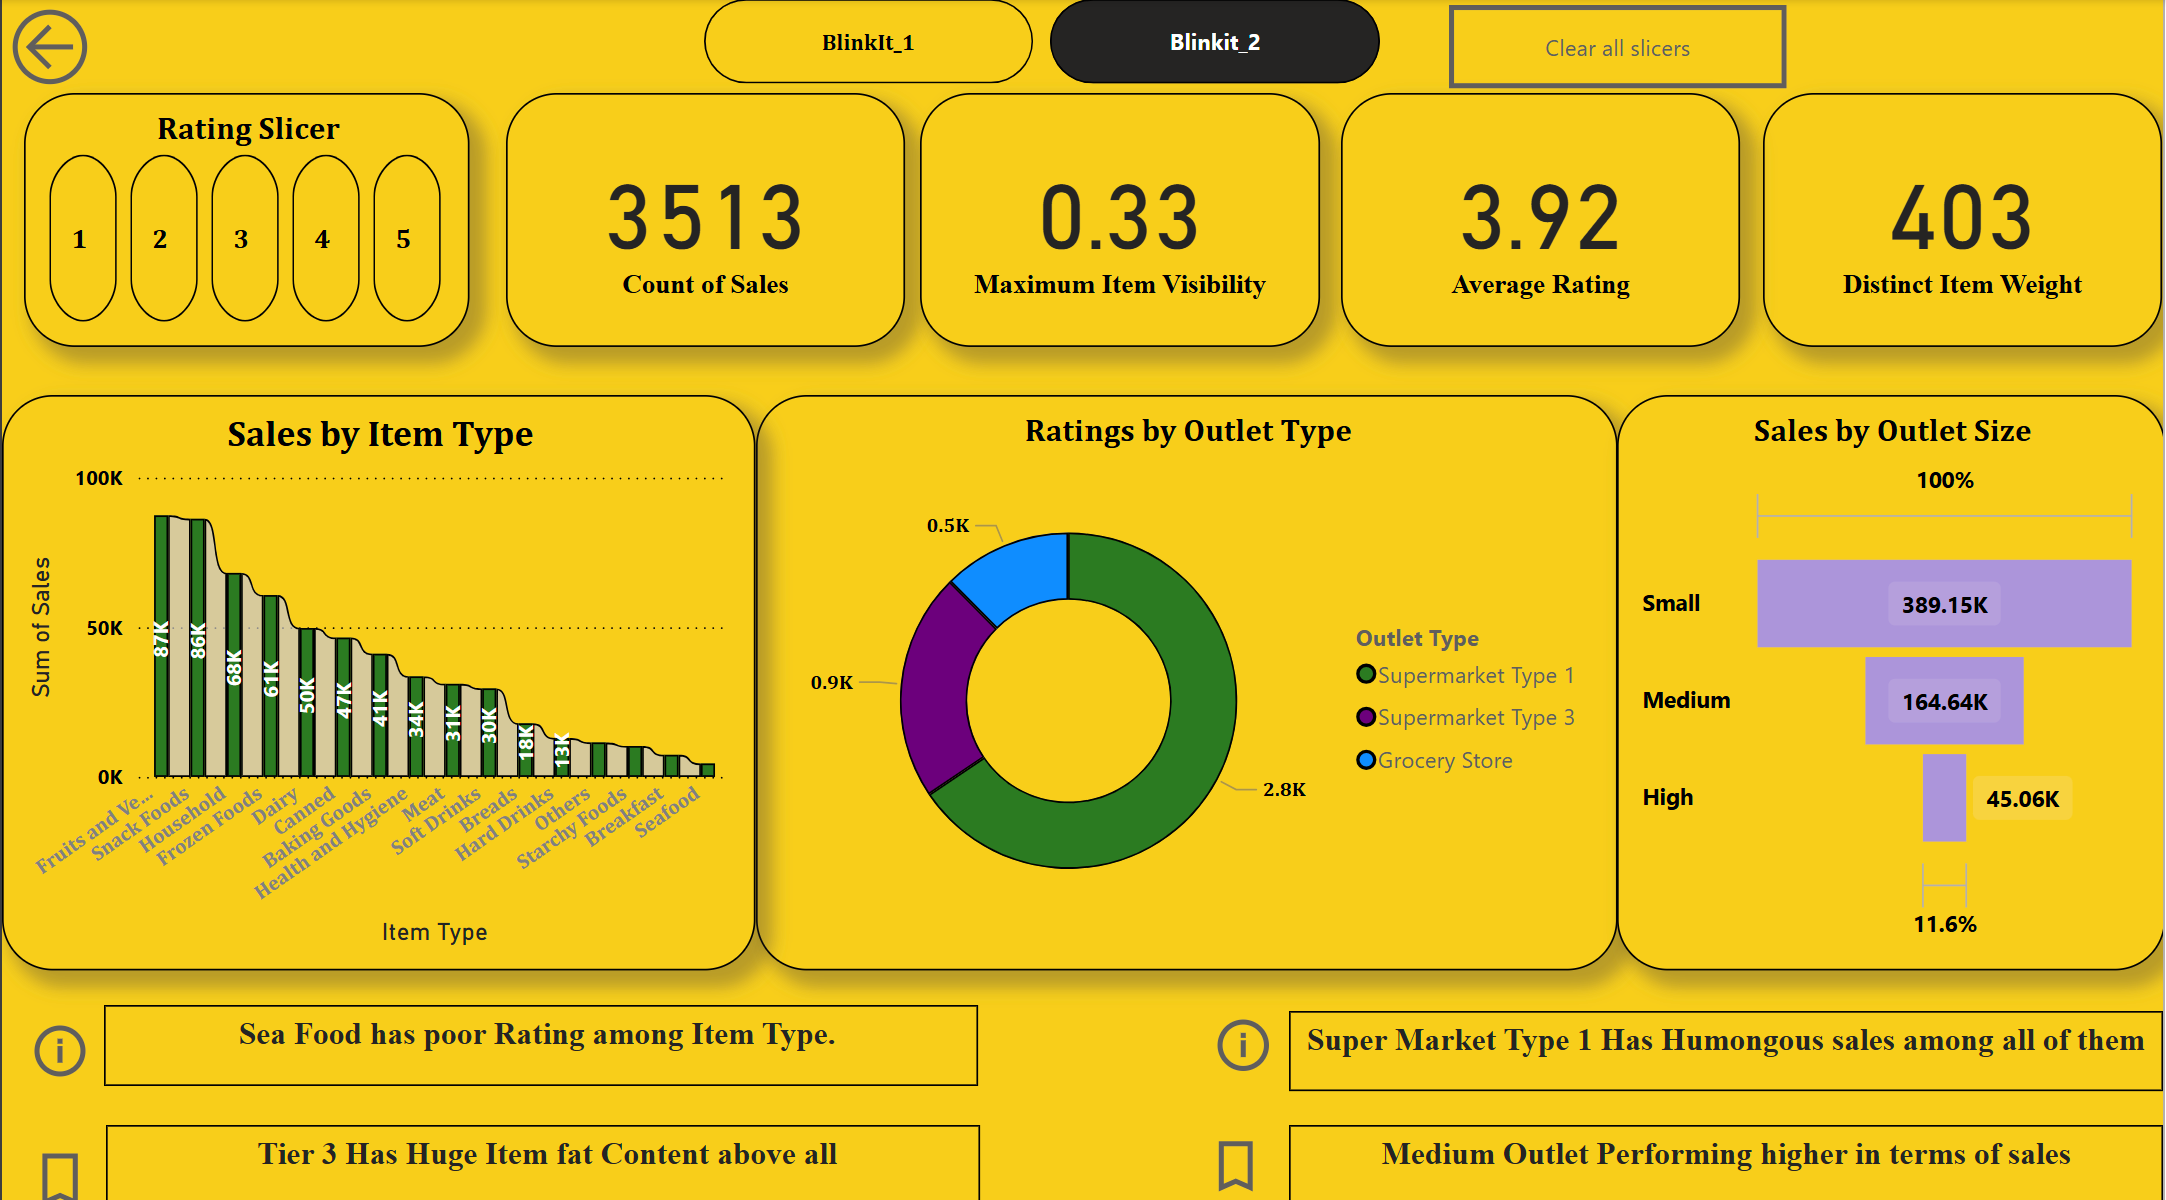

This screenshot's page, from the dashboard's own definition file:
{"tool":"powerbi","page":{"name":"Blinkit_2","canvas":[1280,720],"ordinal":1},"visuals":[{"type":"advancedSlicerVisual","fields":{"Values":["BlinkIT Grocery Data.Rating"]},"box":[13.2,56.1,264.2,150.6],"z":0},{"type":"card","fields":{"Values":["Count(BlinkIT Grocery Data.Sales)"]},"box":[298.5,56.1,236.4,150.6],"z":4000},{"type":"card","fields":{"Values":["BlinkIT Grocery Data.Max Visibility"]},"box":[544.2,56.1,236.4,150.6],"z":5000},{"type":"card","fields":{"Values":["Count(BlinkIT Grocery Data.Item Weight)"]},"box":[1043.6,56.1,236.4,150.6],"z":6000},{"type":"card","fields":{"Values":["Avg(BlinkIT Grocery Data.Rating)"]},"box":[792.6,56.1,236.4,150.6],"z":7000},{"type":"donutChart","title":" Ratings by Outlet Type","fields":{"Y":["CountNonNull(BlinkIT Grocery Data.Rating)"],"Category":["BlinkIT Grocery Data.Outlet Type"]},"box":[446.5,235.1,509.9,340.8],"z":8000},{"type":"actionButton","box":[0,0,60.8,56.8],"z":9000},{"type":"ribbonChart","title":"Sales by Item Type","fields":{"Category":["BlinkIT Grocery Data.Item Type"],"Y":["Sum(BlinkIT Grocery Data.Sales)"]},"box":[0,235.1,446.5,340.8],"z":10000},{"type":"funnel","title":"Sales by Outlet Size","fields":{"Y":["Sum(BlinkIT Grocery Data.Sales)"],"Category":["BlinkIT Grocery Data.Outlet Size"]},"box":[956.4,235.1,325,340.8],"z":11000},{"type":"pageNavigator","box":[416.1,0,400.2,50.2],"z":12000},{"type":"actionButton","box":[714.7,599.4,47.1,40.6],"z":13000},{"type":"textbox","box":[762.1,599.7,517.9,47.4],"z":14000},{"type":"actionButton","box":[14.6,679,40.6,40.6],"z":15000},{"type":"textbox","box":[61.7,667.6,518.2,48.7],"z":16000},{"type":"actionButton","box":[14.2,603.3,40.3,40.3],"z":17000},{"type":"textbox","box":[60.3,596.1,518,48],"z":18000},{"type":"actionButton","box":[711.5,672.5,50.4,39],"z":19000},{"type":"textbox","box":[761.8,667.6,518.2,48.7],"z":20000},{"type":"actionButton","box":[856.5,4.1,200.1,49.3],"z":21000}]}

Visuals, with their boxes in screenshot pixels (x1, y1, x2, y2), scaled from the page's 1280x720 canvas onto the 2166x1200 screenshot:
advancedSlicerVisual - BlinkIT Grocery Data.Rating: rect(22, 94, 469, 344)
card - Count(BlinkIT Grocery Data.Sales): rect(505, 94, 905, 344)
card - BlinkIT Grocery Data.Max Visibility: rect(921, 94, 1321, 344)
card - Count(BlinkIT Grocery Data.Item Weight): rect(1766, 94, 2165, 344)
card - Avg(BlinkIT Grocery Data.Rating): rect(1341, 94, 1741, 344)
" Ratings by Outlet Type" donutChart: rect(756, 392, 1618, 960)
actionButton: rect(0, 0, 103, 95)
"Sales by Item Type" ribbonChart: rect(0, 392, 756, 960)
"Sales by Outlet Size" funnel: rect(1618, 392, 2165, 960)
pageNavigator: rect(704, 0, 1381, 84)
actionButton: rect(1209, 999, 1289, 1067)
textbox: rect(1290, 1000, 2165, 1078)
actionButton: rect(25, 1132, 93, 1199)
textbox: rect(104, 1113, 981, 1194)
actionButton: rect(24, 1006, 92, 1073)
textbox: rect(102, 994, 979, 1074)
actionButton: rect(1204, 1121, 1289, 1186)
textbox: rect(1289, 1113, 2165, 1194)
actionButton: rect(1449, 7, 1788, 89)
